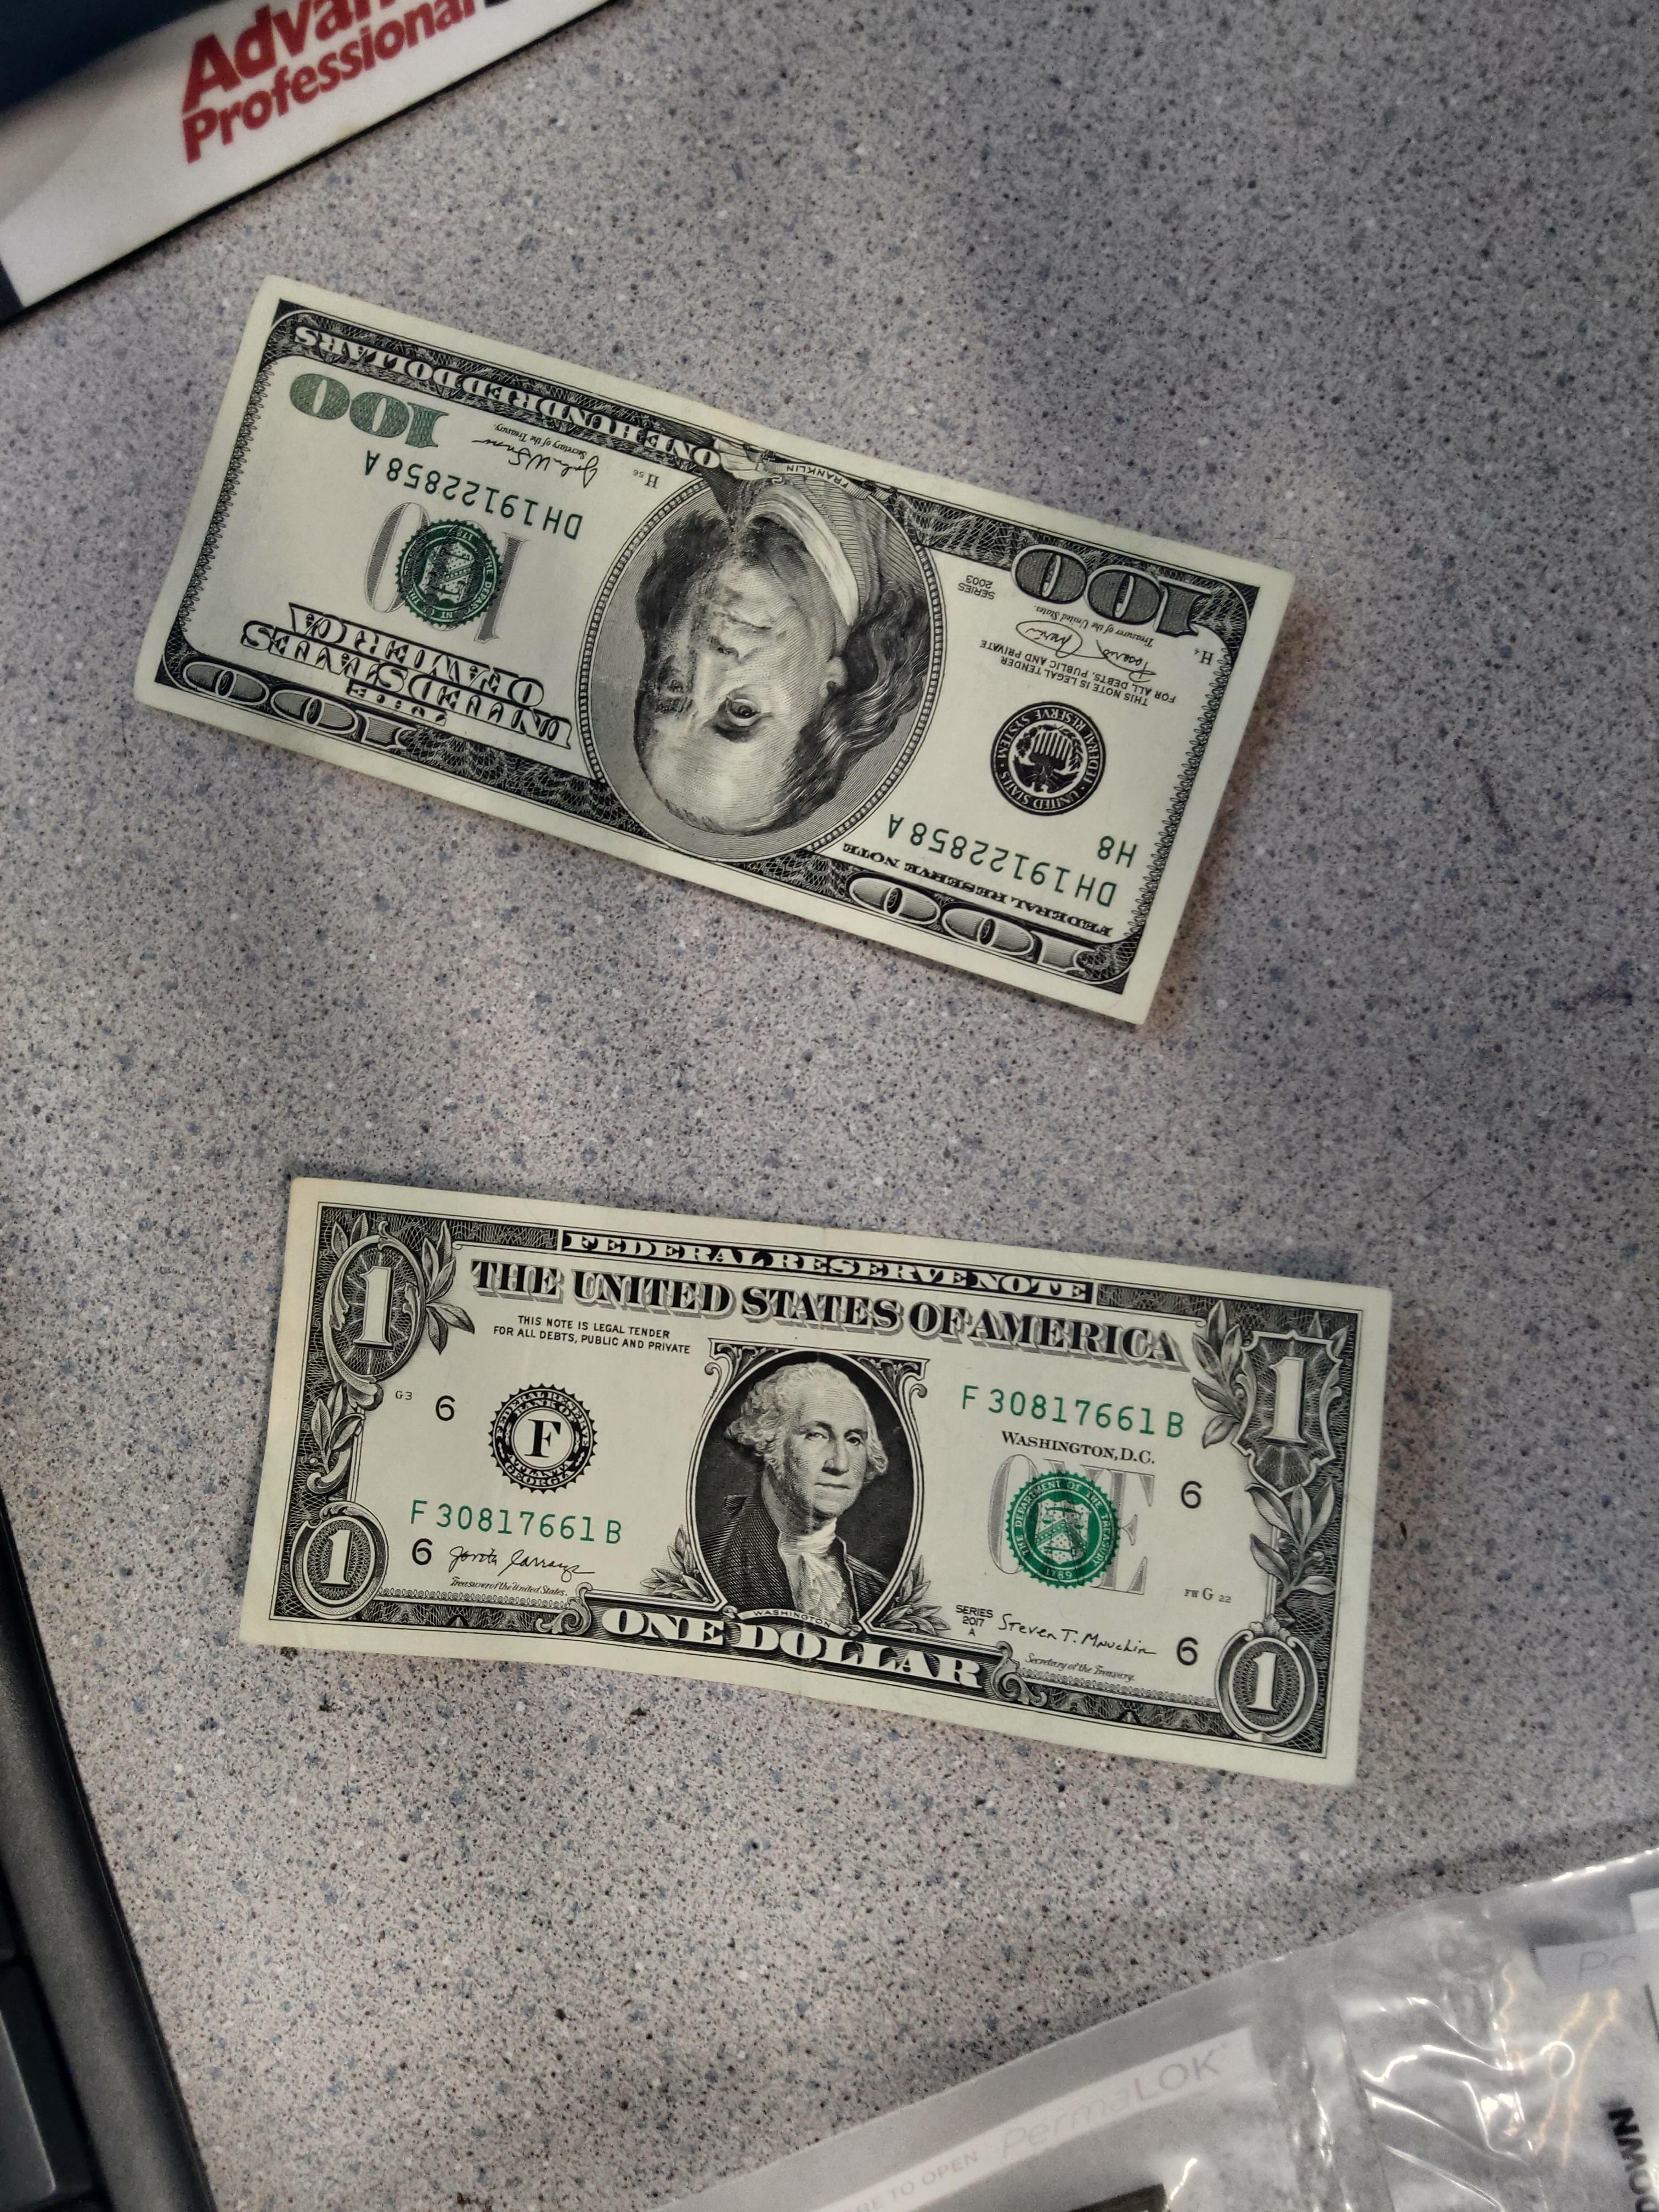HundredBill: (131, 270, 1298, 1028)
OneBill: (239, 1170, 1398, 1789)
